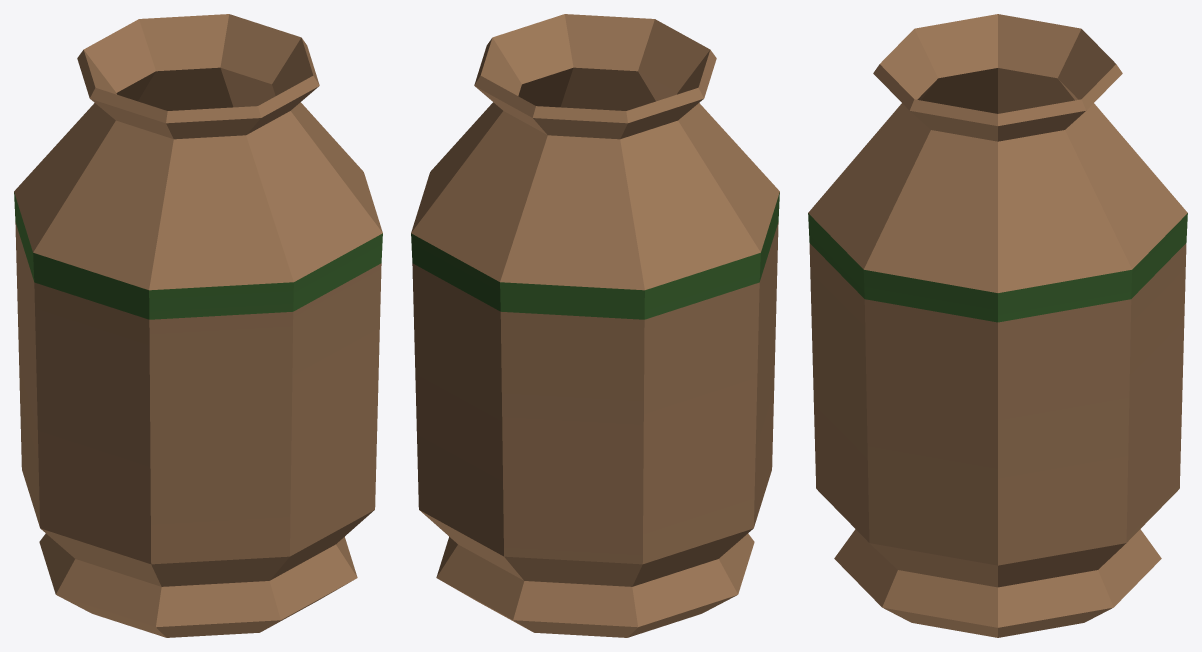
The model's file is Jug_02.glb.
3 views of the same model, side by side, from view 1: azimuth 30°, elevation 25°; view 2: azimuth 150°, elevation 25°; view 3: azimuth 270°, elevation 25° (orthographic).
Parts seen in each view (by area): view 1: Jug_02; view 2: Jug_02; view 3: Jug_02.
Boxes of the visible parts, box(x1,y1,x2,y2) form: Jug_02: box(14, 14, 382, 637); Jug_02: box(411, 14, 779, 637); Jug_02: box(808, 14, 1187, 637).
Size of the model in its own units: 0.2952 by 0.448 by 0.2952.
Materials: 1 (1 with a texture image).
